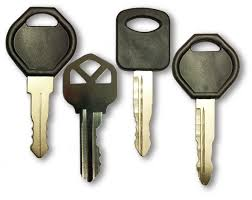kicharina: (5, 4, 80, 161), (171, 31, 242, 187), (115, 3, 168, 158)
